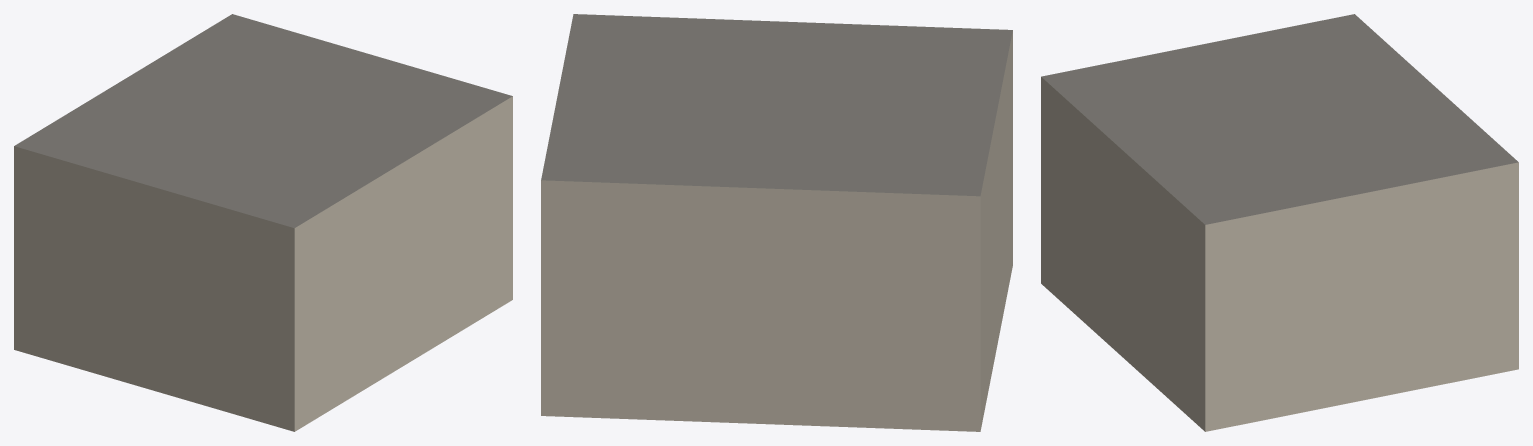
The picture shows the model from 3 angles, left to right: view 1: azimuth 30°, elevation 25°; view 2: azimuth 150°, elevation 25°; view 3: azimuth 270°, elevation 25°; orthographic projection. The views are drawn at different scales.
Visible parts, largest first — view 1: HP-w1324024090; view 2: HP-w1324024090; view 3: HP-w1324024090.
Boxes of the visible parts, x1,y1,x2,y2 form: HP-w1324024090: (14,14,512,431); HP-w1324024090: (541,14,1012,431); HP-w1324024090: (1041,14,1518,431).
Bounding box in the file's own units: 26.22 × 12 × 25.1.
